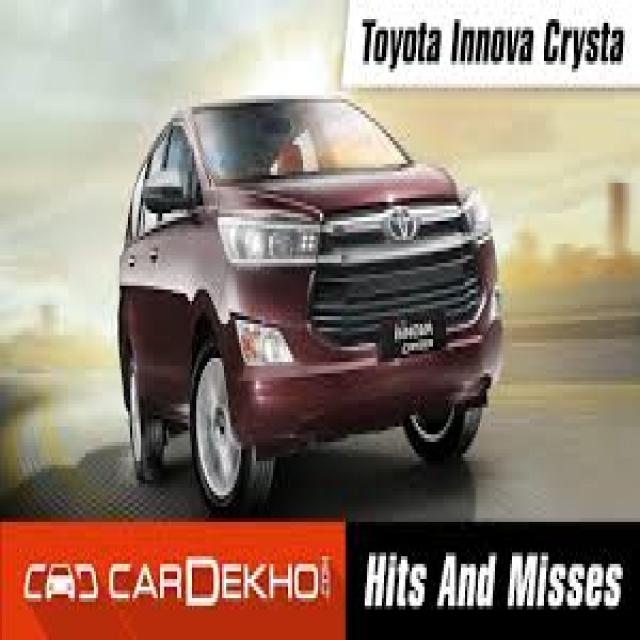light_vehicle: (118, 91, 503, 521)
